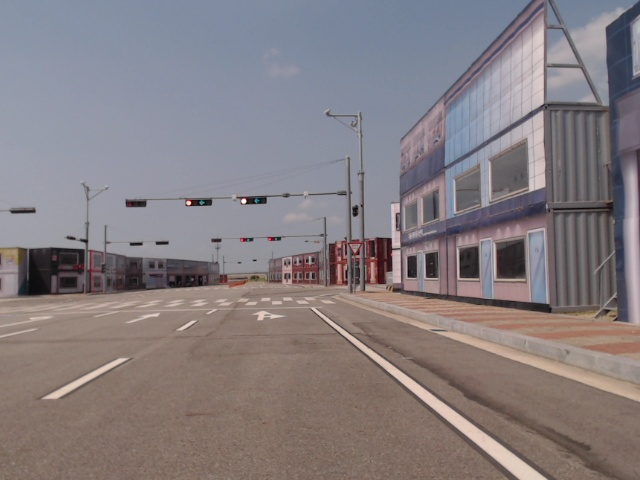left_green_4: (185, 200, 211, 206), (240, 198, 266, 204)
